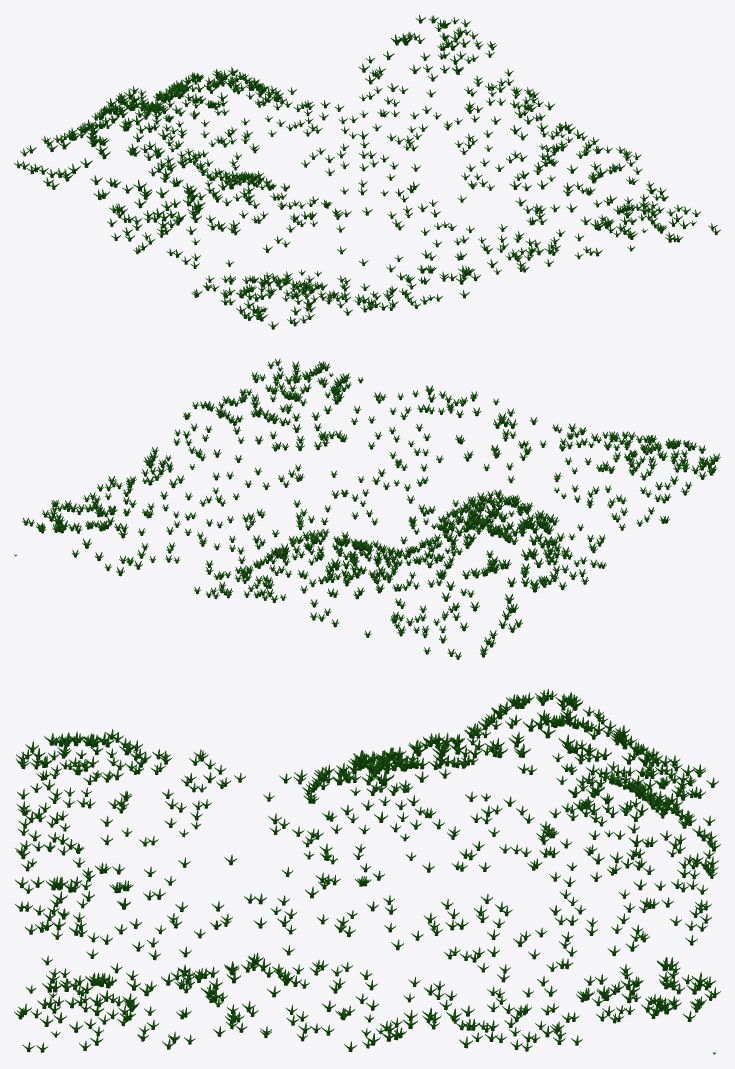
The model's file is Grass.fbx.
3 views of the same model, one above another, from view 1: azimuth 30°, elevation 25°; view 2: azimuth 150°, elevation 25°; view 3: azimuth 270°, elevation 25° (orthographic). The views are drawn at different scales.
Visible parts, largest first — view 1: Trawa; view 2: Trawa; view 3: Trawa.
Part boxes in pixels (x1,y1,x2,y2): Trawa: [14, 15, 720, 329]; Trawa: [14, 358, 720, 659]; Trawa: [14, 689, 720, 1054].
Bounding box in the file's own units: 10162 × 1944 × 10186.
